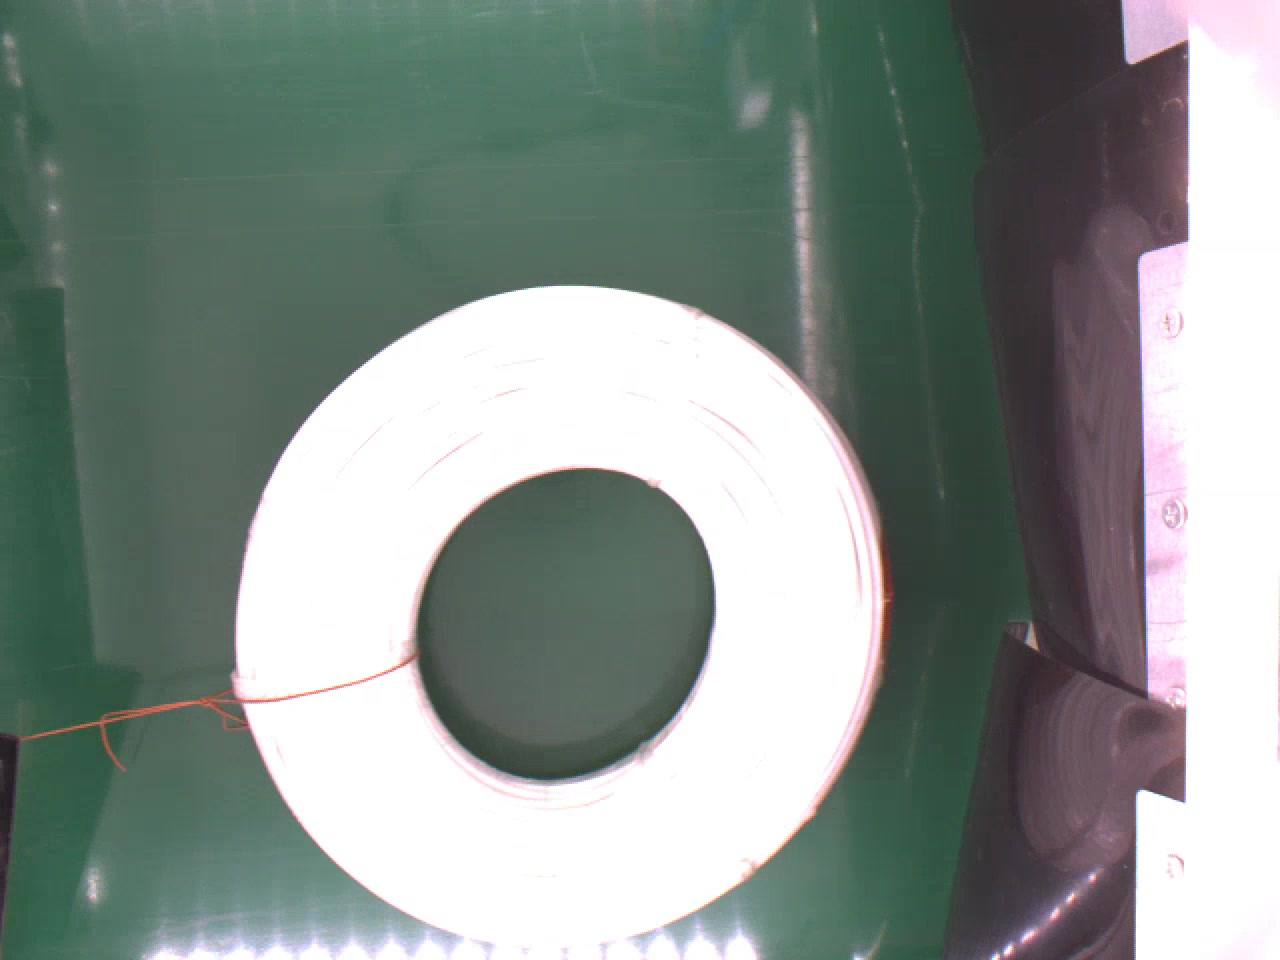white: (227, 277, 898, 946)
